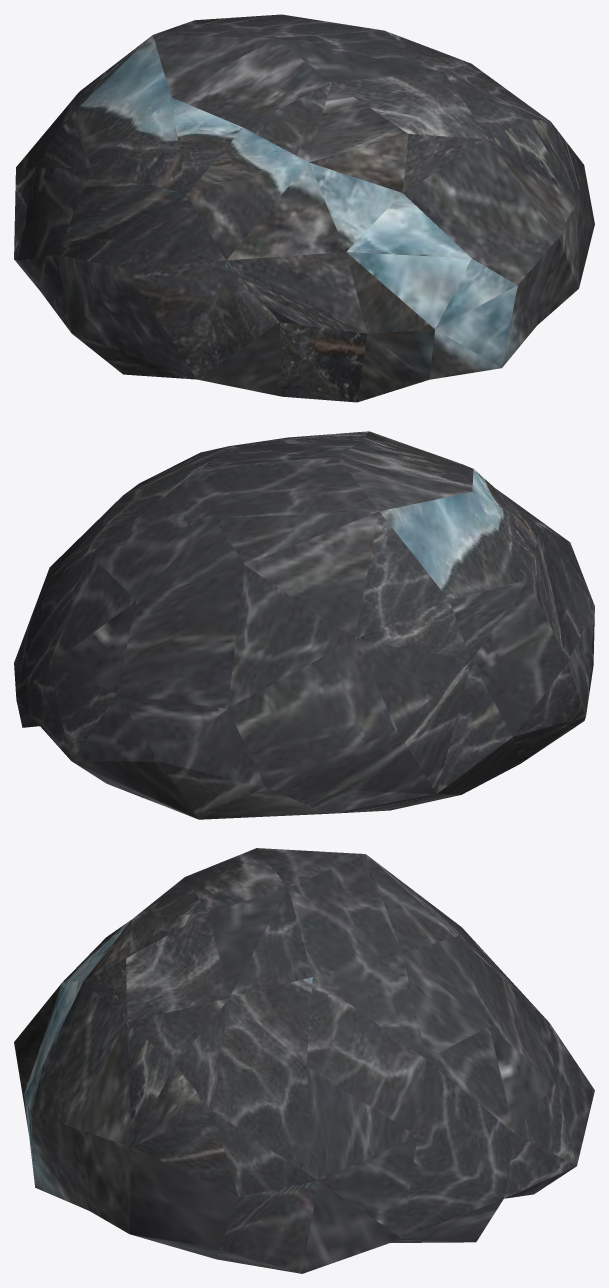
Rendered from fc_iceveined_slate_boulder_lod2.glb.
3 views of the same model, one above another, from view 1: azimuth 30°, elevation 25°; view 2: azimuth 150°, elevation 25°; view 3: azimuth 270°, elevation 25° (orthographic). The views are drawn at different scales.
Visible parts, largest first — view 1: mesh; view 2: mesh; view 3: mesh.
Boxes of the visible parts, box(x1,y1,x2,y2) form: mesh: box(14, 14, 594, 402); mesh: box(14, 431, 594, 819); mesh: box(14, 848, 594, 1273).
Size of the model in its own units: 1.76 by 0.8619 by 1.77.
1 material, 1 textured.
